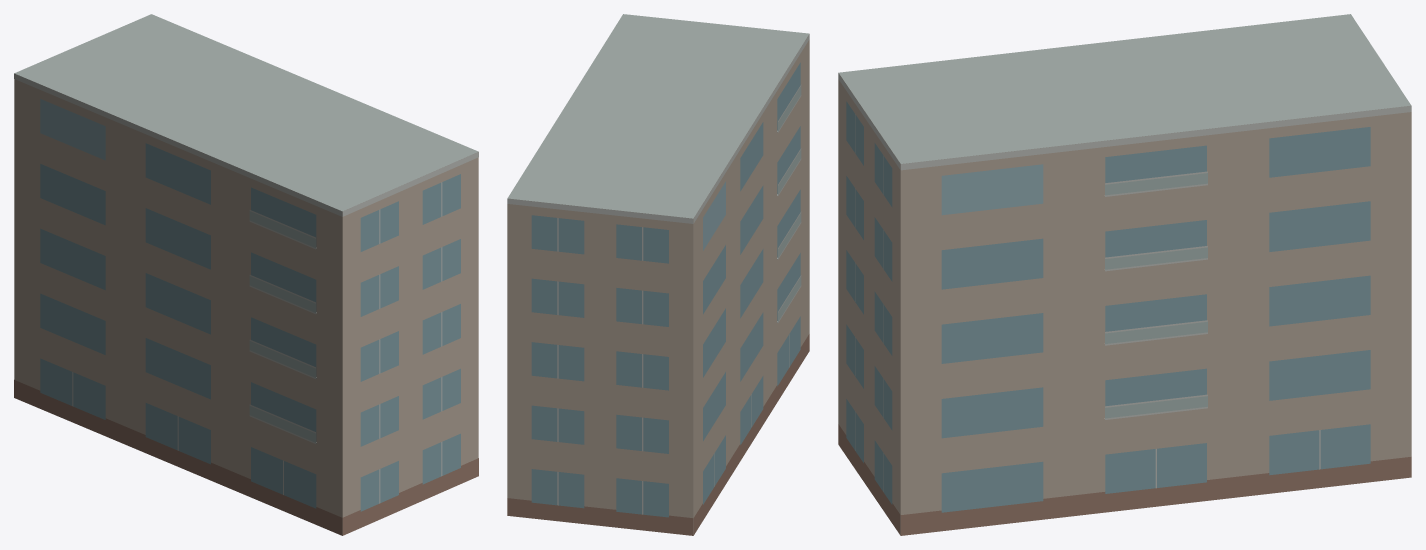
File: survey-upis-32711239.glb
The picture shows the model from 3 angles, left to right: view 1: azimuth 30°, elevation 25°; view 2: azimuth 150°, elevation 25°; view 3: azimuth 270°, elevation 25°; orthographic projection. The views are drawn at different scales.
Parts seen in each view (by area): view 1: survey-upis-32711239.tmp; view 2: survey-upis-32711239.tmp; view 3: survey-upis-32711239.tmp.
Boxes of the visible parts, bbox=[...] form: survey-upis-32711239.tmp: bbox=[14, 14, 478, 535]; survey-upis-32711239.tmp: bbox=[507, 14, 809, 535]; survey-upis-32711239.tmp: bbox=[838, 14, 1411, 535].
Bounding box in the file's own units: 12.39 × 14.3 × 19.99.
